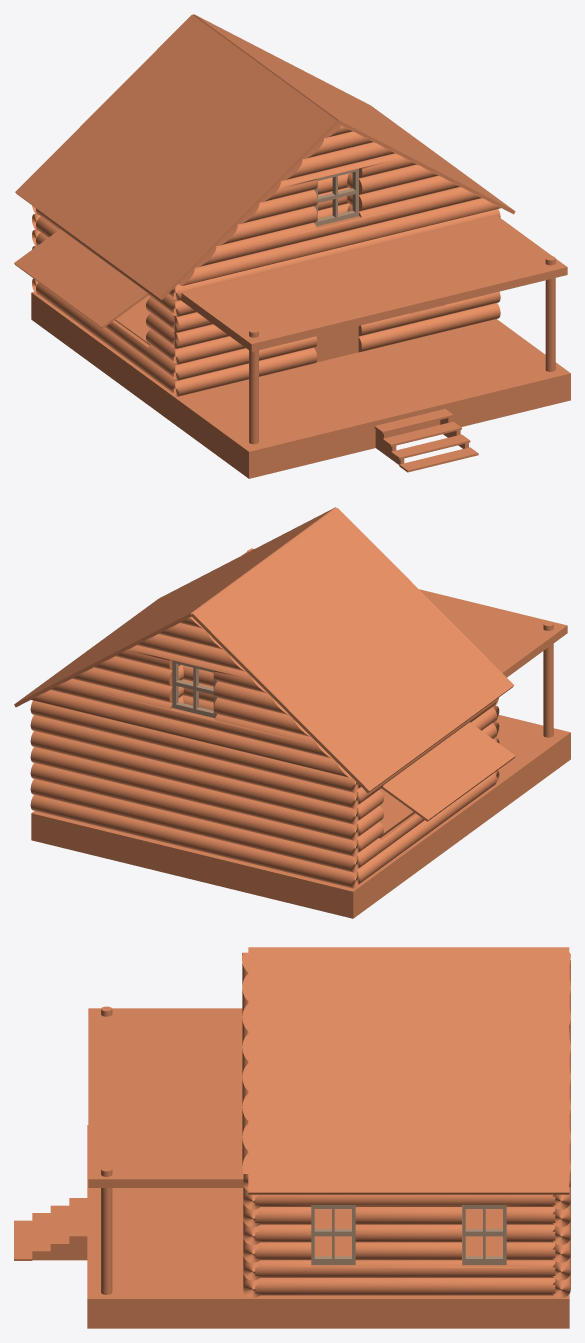
The model's file is house.glb.
3 renders of one model, top to bottom at view 1: azimuth 30°, elevation 25°; view 2: azimuth 150°, elevation 25°; view 3: azimuth 270°, elevation 25°, orthographic. The views are drawn at different scales.
Visible parts, largest first — view 1: Roof_1, Foundation, Porch_roof, Upper_front_wall, Front_wall, Roof_2, Side_big_window, Side_wall_2, Stairs, Porch_pillar, Front_window.001, Front_door (+1 smaller); view 2: Roof_1, Back_wall, Foundation, Upper_back_wall, Roof_2, Side_big_window, Side_wall_2, Porch_roof, Front_window.002, Porch_pillar, Front_wall; view 3: Roof_2, Foundation, Porch_roof, Side_wall_1, Stairs, Back_wall, Front_wall, Upper_front_wall, Porch_pillar, Side_window_1, Side_window_2.
Boxes of the visible parts, x1,y1,x2,y2 form: Roof_1: (15, 14, 338, 300); Foundation: (31, 292, 570, 478); Porch_roof: (180, 216, 567, 351); Upper_front_wall: (178, 124, 500, 285); Front_wall: (173, 209, 500, 396); Roof_2: (193, 14, 515, 214); Side_big_window: (14, 229, 148, 328); Side_wall_2: (36, 208, 174, 393); Stairs: (374, 409, 478, 472); Porch_pillar: (249, 256, 555, 444); Front_window.001: (314, 168, 358, 226); Front_door: (314, 326, 358, 362); Roof_1: (191, 507, 514, 793); Back_wall: (30, 700, 358, 888); Foundation: (31, 715, 570, 918); Upper_back_wall: (30, 617, 350, 777); Roof_2: (14, 507, 336, 707); Side_big_window: (381, 722, 515, 821); Side_wall_2: (357, 699, 496, 884); Porch_roof: (243, 548, 567, 677); Front_window.002: (172, 660, 217, 718); Porch_pillar: (247, 549, 553, 737); Front_wall: (182, 665, 499, 786); Roof_2: (248, 948, 569, 1194); Foundation: (87, 1125, 569, 1328); Porch_roof: (88, 1008, 244, 1187); Side_wall_1: (255, 1194, 555, 1295); Stairs: (14, 1198, 87, 1260); Back_wall: (553, 1170, 570, 1298); Front_wall: (243, 1174, 261, 1298); Upper_front_wall: (242, 952, 248, 1173); Porch_pillar: (101, 1006, 112, 1294); Side_window_1: (462, 1205, 506, 1264); Side_window_2: (311, 1205, 355, 1264).
Size of the model in its own units: 22.21 by 14.64 by 25.1.
